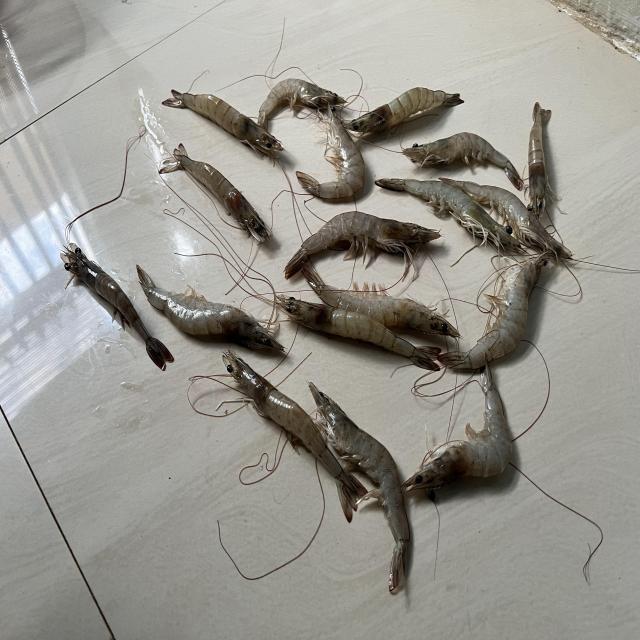shrimp: (222, 350, 367, 522), (309, 383, 410, 594), (59, 242, 173, 370), (403, 362, 513, 492), (136, 264, 284, 351), (275, 294, 441, 370), (440, 254, 548, 370), (302, 261, 460, 337), (158, 142, 272, 242), (439, 177, 573, 258), (375, 178, 523, 250), (285, 211, 441, 278), (162, 88, 284, 156), (403, 131, 524, 190), (296, 104, 365, 198), (345, 86, 464, 133), (258, 77, 345, 128), (528, 101, 552, 218)
